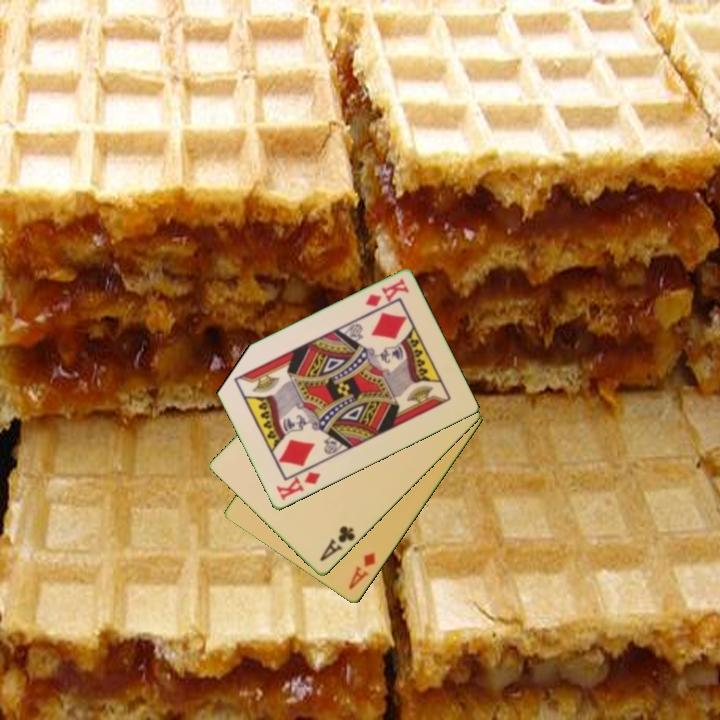Ac: (316, 522, 358, 565)
Ad: (345, 549, 378, 593)
Kd: (272, 468, 324, 504), (362, 275, 412, 310)
